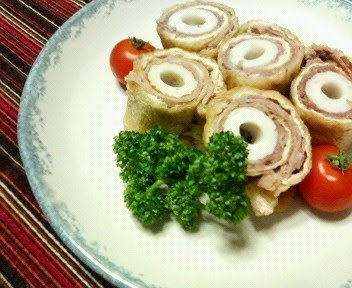background: (59, 0, 193, 105)
